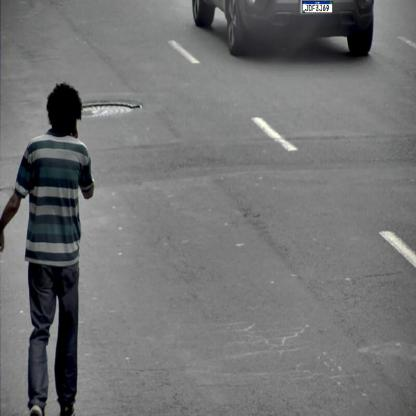PlacaM: (302, 1, 333, 13)
